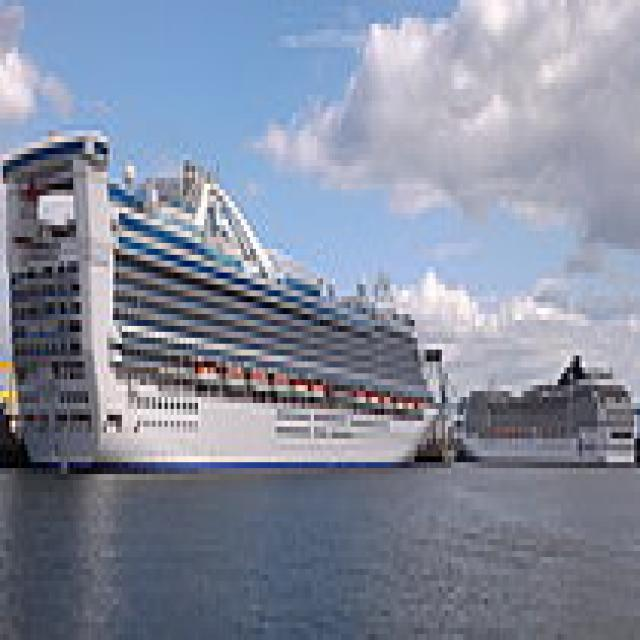Ship: (1, 108, 455, 493)
